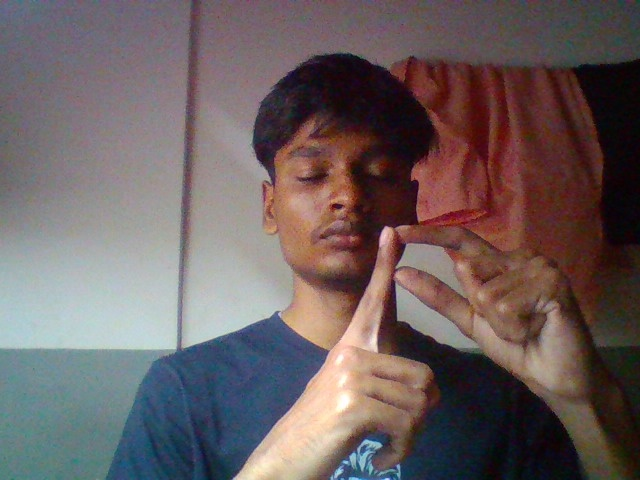P: (240, 207, 609, 480)
